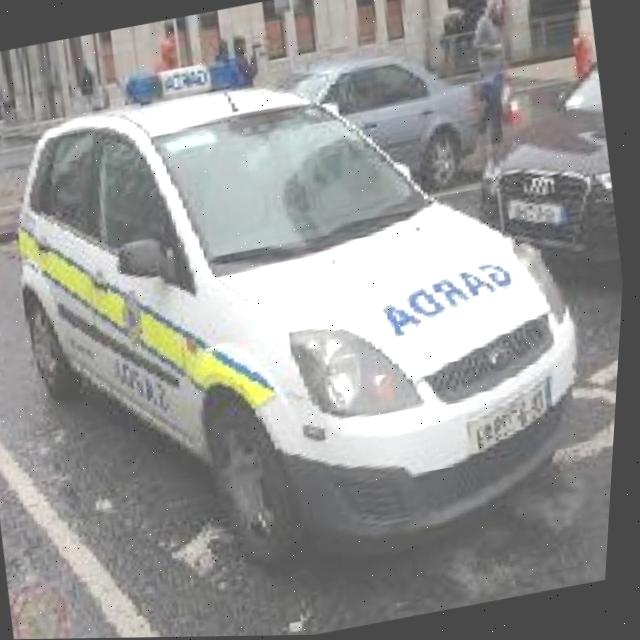emergency: (0, 0, 628, 615)
